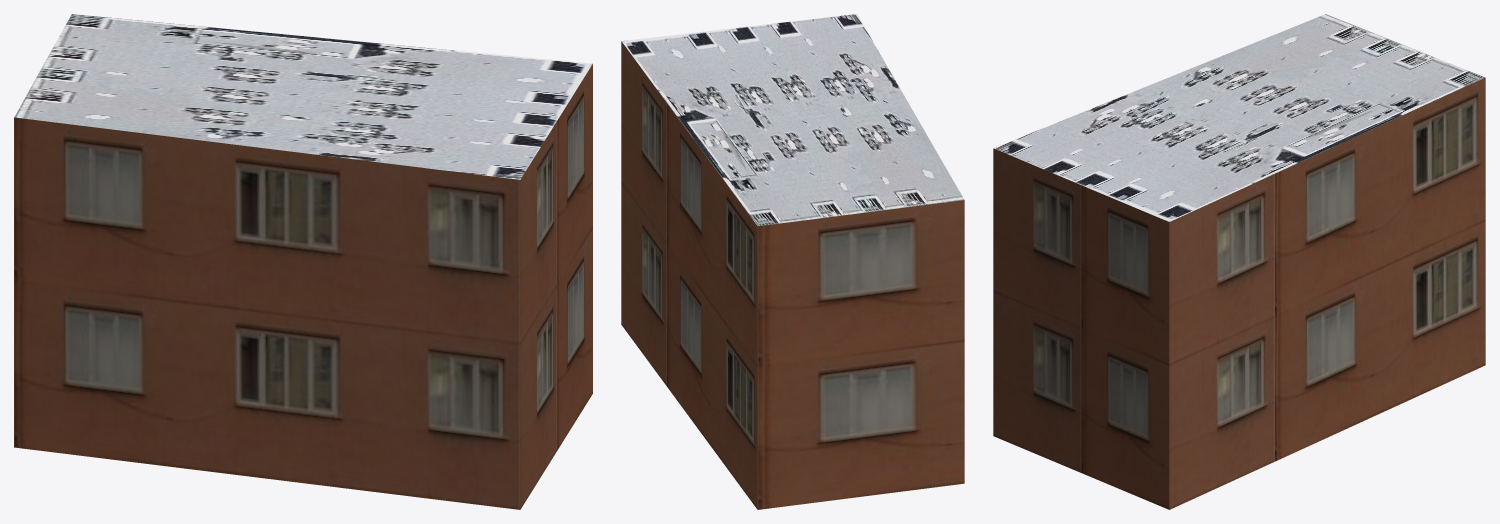
File: ResTex__2155.fbx
The picture shows the model from 3 angles, left to right: view 1: azimuth 30°, elevation 25°; view 2: azimuth 150°, elevation 25°; view 3: azimuth 270°, elevation 25°; orthographic projection. The views are drawn at different scales.
Visible parts, largest first — view 1: CityEngineMaterial_20_m, CityEngineMaterial_8_m; view 2: CityEngineMaterial_20_m, CityEngineMaterial_8_m; view 3: CityEngineMaterial_20_m, CityEngineMaterial_8_m.
Boxes of the visible parts, x1,y1,x2,y2 form: CityEngineMaterial_20_m: [14, 64, 592, 509]; CityEngineMaterial_8_m: [14, 14, 592, 179]; CityEngineMaterial_20_m: [621, 41, 964, 509]; CityEngineMaterial_8_m: [621, 14, 964, 226]; CityEngineMaterial_20_m: [993, 77, 1485, 509]; CityEngineMaterial_8_m: [994, 14, 1485, 221].
Size of the model in its own units: 9.3 by 6 by 9.3.
Materials: 2 (2 with a texture image).
